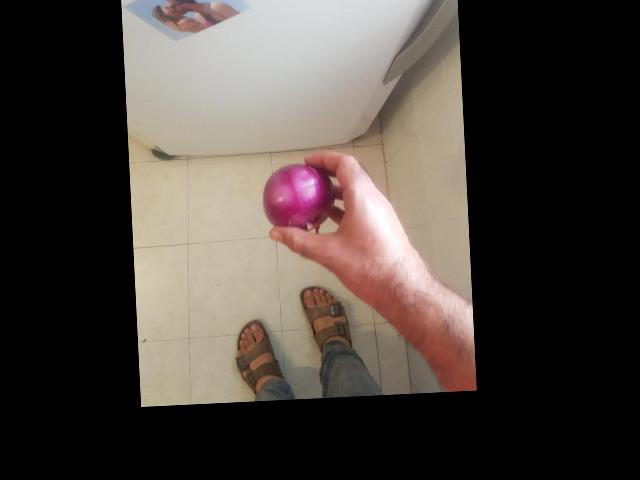onion: (259, 163, 342, 235)
